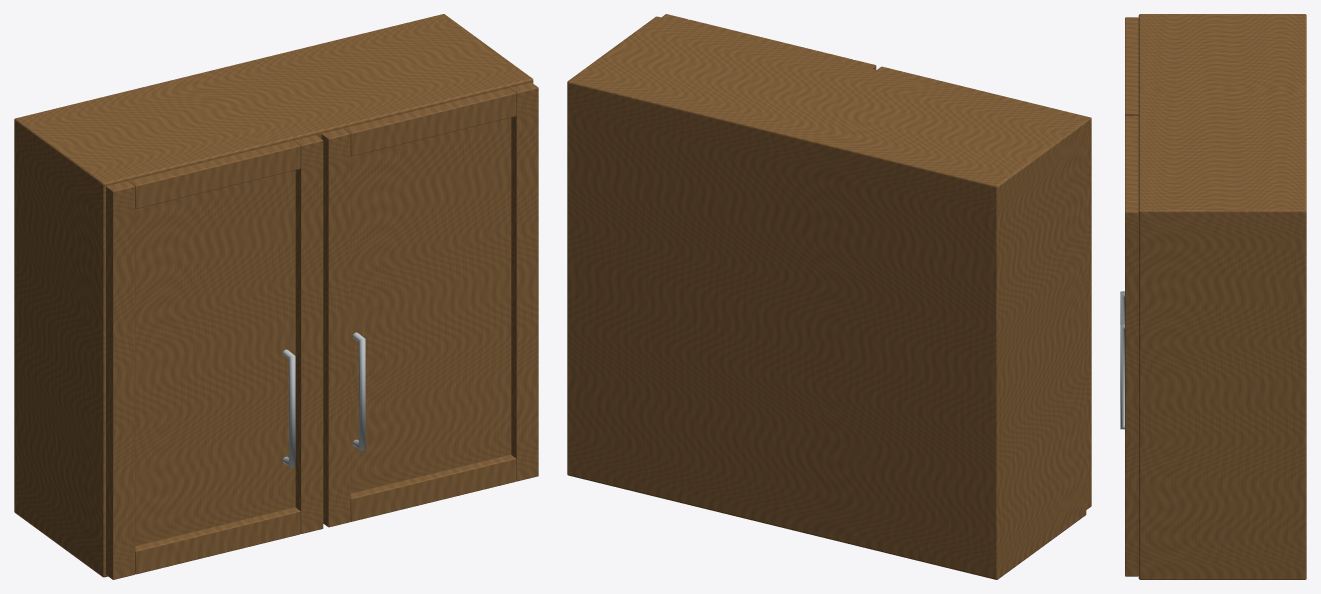
The model's file is wall-cabinet.glb.
3 views of the same model, side by side, from view 1: azimuth 30°, elevation 25°; view 2: azimuth 150°, elevation 25°; view 3: azimuth 270°, elevation 25° (orthographic). The views are drawn at different scales.
Visible parts, largest first — view 1: wall-cabinet · oak.001, wall-cabinet · metal.002; view 2: wall-cabinet · oak.001; view 3: wall-cabinet · oak.001, wall-cabinet · metal.002.
Part boxes in pixels (x1,y1,x2,y2): wall-cabinet · oak.001: (14, 14, 538, 579); wall-cabinet · metal.002: (282, 332, 365, 467); wall-cabinet · oak.001: (567, 14, 1091, 579); wall-cabinet · oak.001: (1125, 14, 1306, 579); wall-cabinet · metal.002: (1120, 291, 1124, 429).
Bounding box in the file's own units: 0.8 × 0.7 × 0.32.
Materials: 2 (1 with a texture image).
